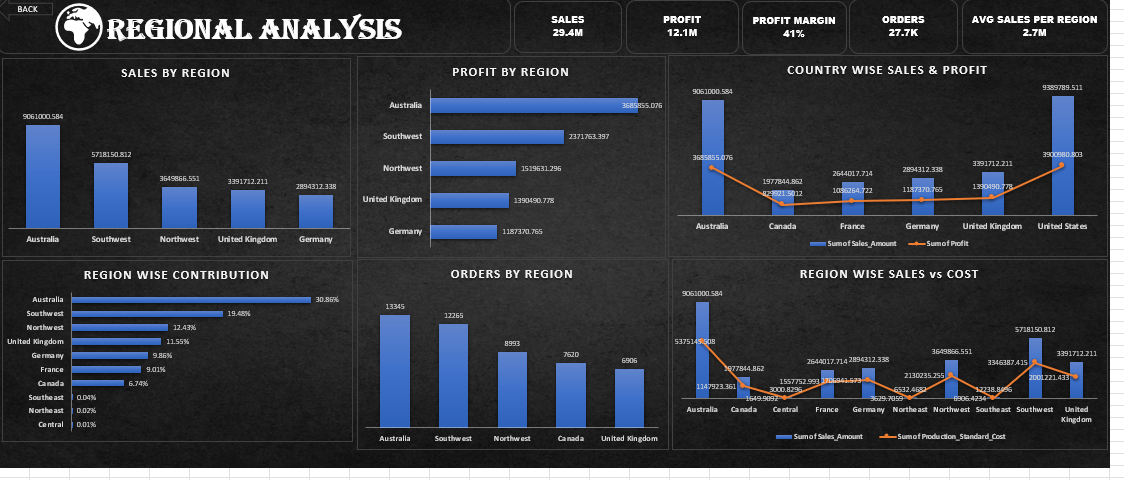

The dashboard page shown, as its layout file describes it:
{"tool":"tableau","page":{"name":"Regional Analysis","canvas":[1000,1000],"units":"permille","ordinal":3},"visuals":[{"type":"text","box":[6,10,371.2,84.9]},{"type":"worksheet","title":"Profit Margin","mark":"Automatic","box":[755,10,114.1,83.7]},{"type":"worksheet","title":"Total Orders","mark":"Automatic","box":[873.9,10,118.3,82.4]},{"type":"worksheet","title":"Total Sales (2)","mark":"Automatic","box":[380.8,11.2,123.1,84.9]},{"type":"worksheet","title":"Total Profit","mark":"Automatic","box":[632.5,11.2,117.7,82.4]},{"type":"worksheet","title":"Total Cost","mark":"Automatic","box":[508.2,12.5,120.1,83.7]},{"type":"worksheet","title":"order by Region","mark":"Automatic","rows":["CustomerKey"],"cols":["SalesTerritoryCountry"],"box":[612,101.1,378.4,374.5]},{"type":"worksheet","title":"Sales By Country","mark":"Automatic","rows":["SalesTerritoryCountry"],"cols":["Calculation_0485494066905089"],"box":[277.6,102.4,331.9,370.8]},{"type":"worksheet","title":"Sales by Territory Group","mark":"Pie","box":[8.4,103.6,266.1,370.8]},{"type":"filter","title":"Sheet 32","param":"[federated.0gbul091on3bhx1da8nw80oyejd2].[yr:Calculation_955044655561633792:ok]","box":[9.7,480.7,164.2,126.1]},{"type":"worksheet","title":"Sheet 32","mark":"Automatic","box":[10.3,480.7,15.7,117.4]},{"type":"worksheet","title":"Sales By Regions","mark":"Automatic","rows":["Calculation_0485494066905089"],"cols":["Calculation_955044655561633792"],"box":[178.6,480.7,527.5,500.6]},{"type":"worksheet","title":"sales By Region","mark":"Automatic","rows":["SalesTerritoryRegion"],"box":[710.9,483.2,278.2,500.6]},{"type":"filter","title":"Sheet 32","param":"[federated.0gbul091on3bhx1da8nw80oyejd2].[qr:Calculation_955044655561633792:ok]","box":[10.3,615.5,163.6,123.6]},{"type":"filter","title":"Sheet 33","param":"[federated.0gbul091on3bhx1da8nw80oyejd2].[none:EnglishProductCategoryName:nk]","box":[8.4,746.6,164.8,234.7]}]}

Visuals, with their boxes on the dashboard's canvas, which has no fixed pixel size, in thousandths of its width and height (x1, y1, x2, y2). These are canvas units, not pixel positions in the 1124x480 screenshot, which may show the page scaled, cropped or inside an application window:
text: (x1=6, y1=10, x2=377, y2=95)
"Profit Margin" worksheet: (x1=755, y1=10, x2=869, y2=94)
"Total Orders" worksheet: (x1=874, y1=10, x2=992, y2=92)
"Total Sales (2)" worksheet: (x1=381, y1=11, x2=504, y2=96)
"Total Profit" worksheet: (x1=632, y1=11, x2=750, y2=94)
"Total Cost" worksheet: (x1=508, y1=12, x2=628, y2=96)
"order by Region" worksheet: (x1=612, y1=101, x2=990, y2=476)
"Sales By Country" worksheet: (x1=278, y1=102, x2=610, y2=473)
"Sales by Territory Group" worksheet (Pie marks): (x1=8, y1=104, x2=274, y2=474)
"Sheet 32" filter: (x1=10, y1=481, x2=174, y2=607)
"Sheet 32" worksheet: (x1=10, y1=481, x2=26, y2=598)
"Sales By Regions" worksheet: (x1=179, y1=481, x2=706, y2=981)
"sales By Region" worksheet: (x1=711, y1=483, x2=989, y2=984)
"Sheet 32" filter: (x1=10, y1=616, x2=174, y2=739)
"Sheet 33" filter: (x1=8, y1=747, x2=173, y2=981)
